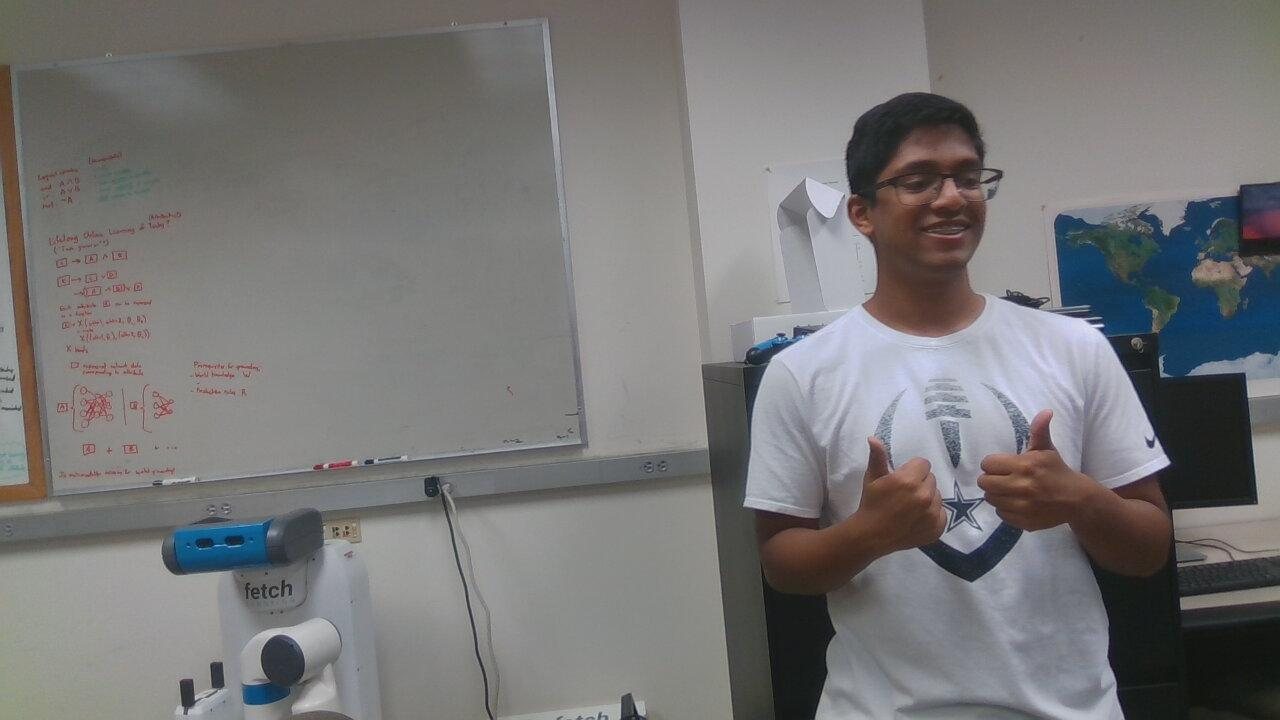hands: (975, 398, 1095, 557), (838, 435, 958, 566)
